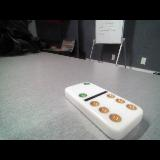domino: (65, 83, 142, 139)
